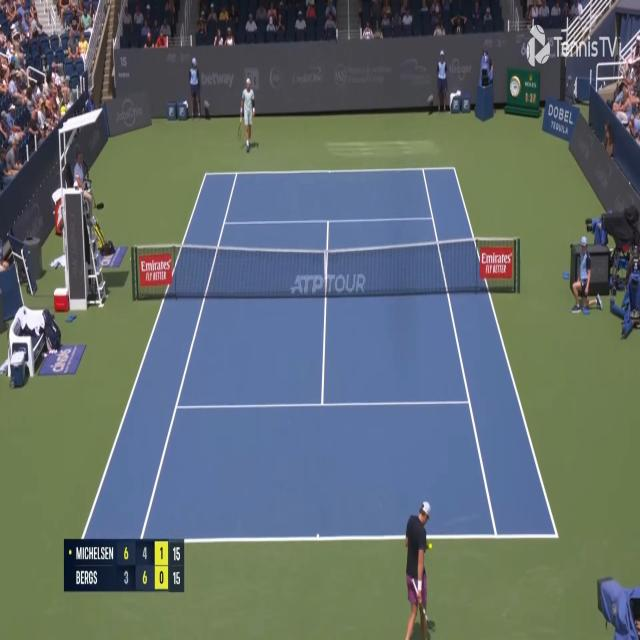tennis-player: (400, 498, 435, 640), (237, 76, 255, 156)
